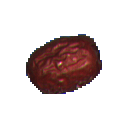gd: (10, 21, 110, 116)
